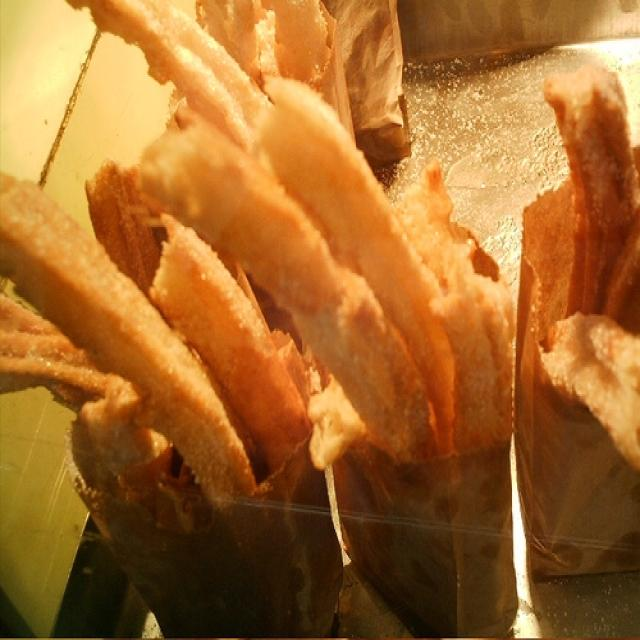炸货点心: (11, 12, 626, 613)
